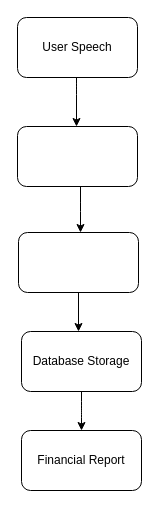
This 159x508 diagram has some shape labels left out. Each missing label, with the centre of its shape:
"Natural Language Processing" belongs at pixel 78 262.
"Speech Recognition" belongs at pixel 77 156.
